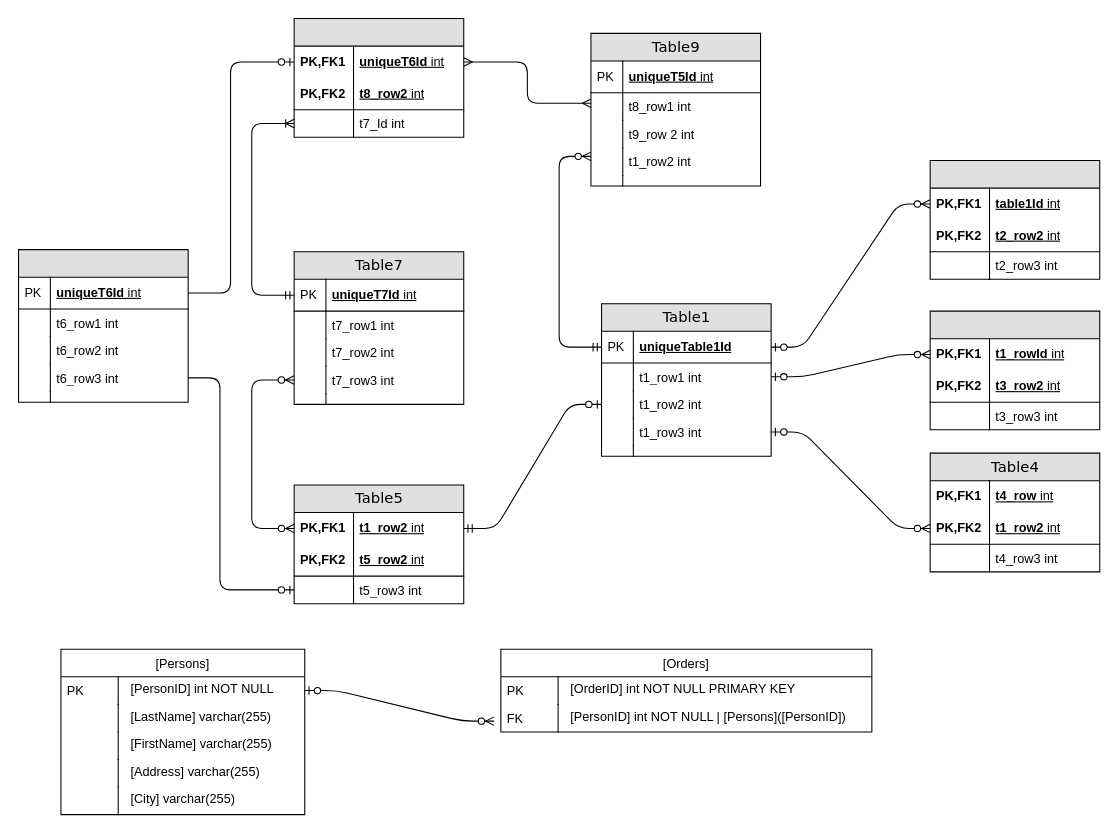
This 1118x836 diagram has some shape labels left out. Here are the shapes that lost their labels. From the top down, the box of each, then its label:
(293, 17, 464, 137): Table8
(929, 160, 1100, 279): Table2
(17, 249, 188, 402): Table6
(929, 310, 1100, 430): Table3
